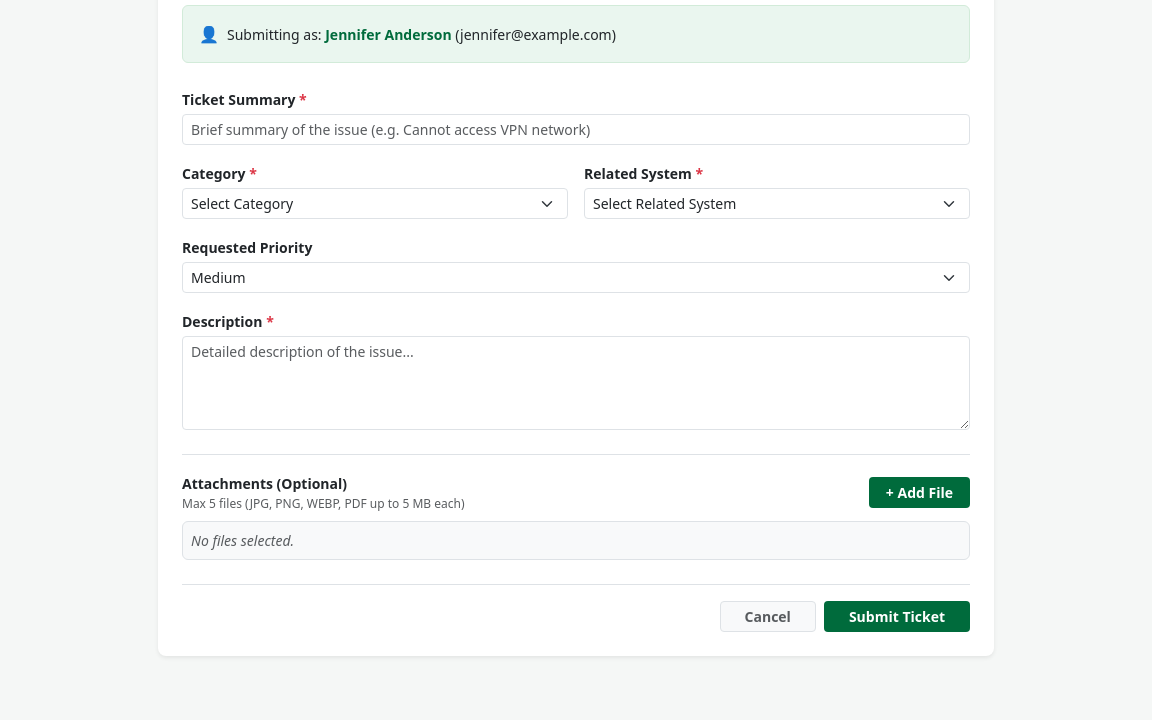
Test: CreateTicketPage Component › shows an inline error message under each empty required field on submit
This screenshot has width=1152, height=720.
(page scrolled)
Click the button "Submit Ticket": coordinates (897, 616) [824,601,970,632]
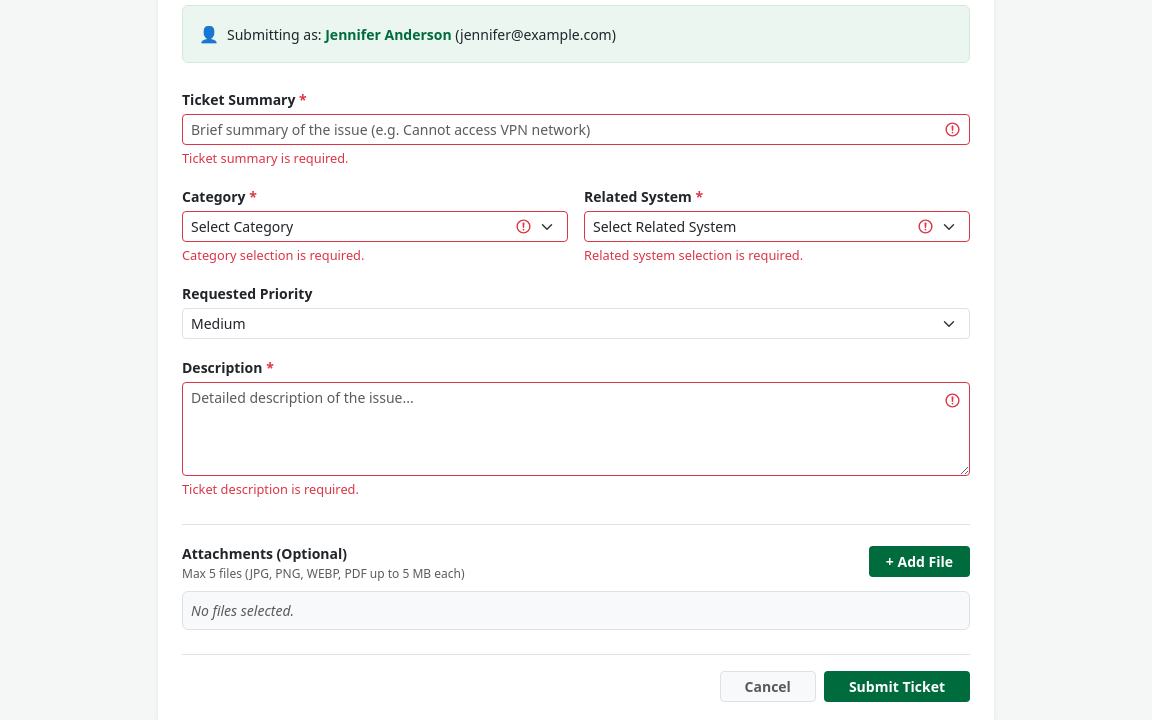
Check: the text "Ticket summary is required." is shown, box [182,149,348,167]
Check: the text "Ticket description is required." is shown, box [182,480,359,498]
Check: the text "Category selection is required." is shown, box [182,246,364,264]
